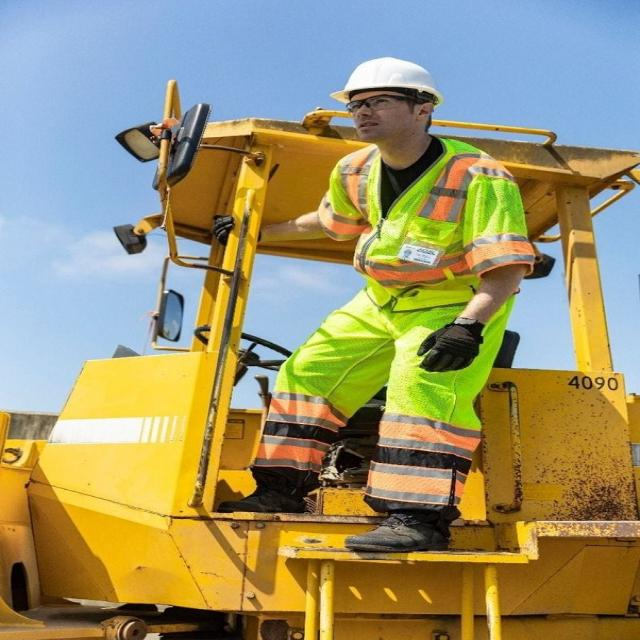goggles: (343, 91, 415, 115)
helmet: (314, 45, 450, 105)
vest: (328, 142, 520, 306)
